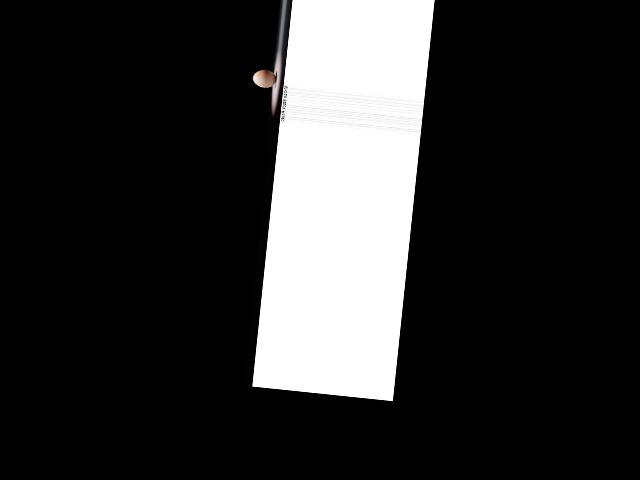egg: (252, 68, 277, 89)
